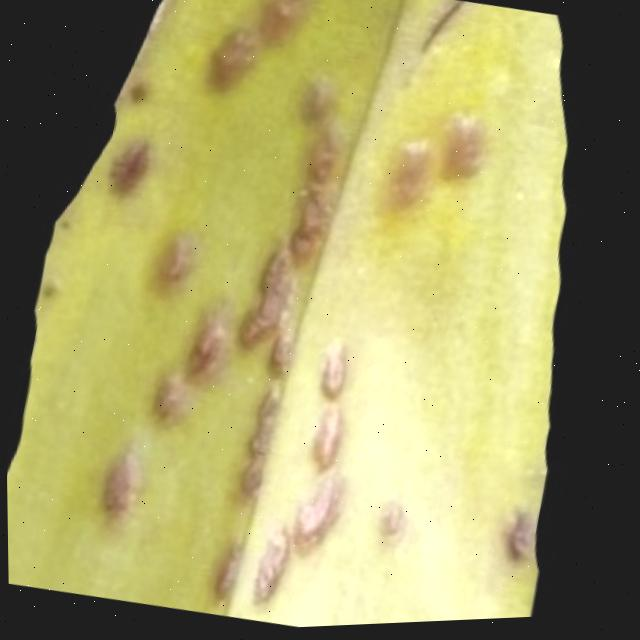mite: (98, 50, 500, 266), (375, 102, 497, 232), (296, 76, 341, 133), (316, 344, 354, 404), (374, 503, 412, 549), (127, 78, 156, 110)
spots: (5, 0, 640, 630)
